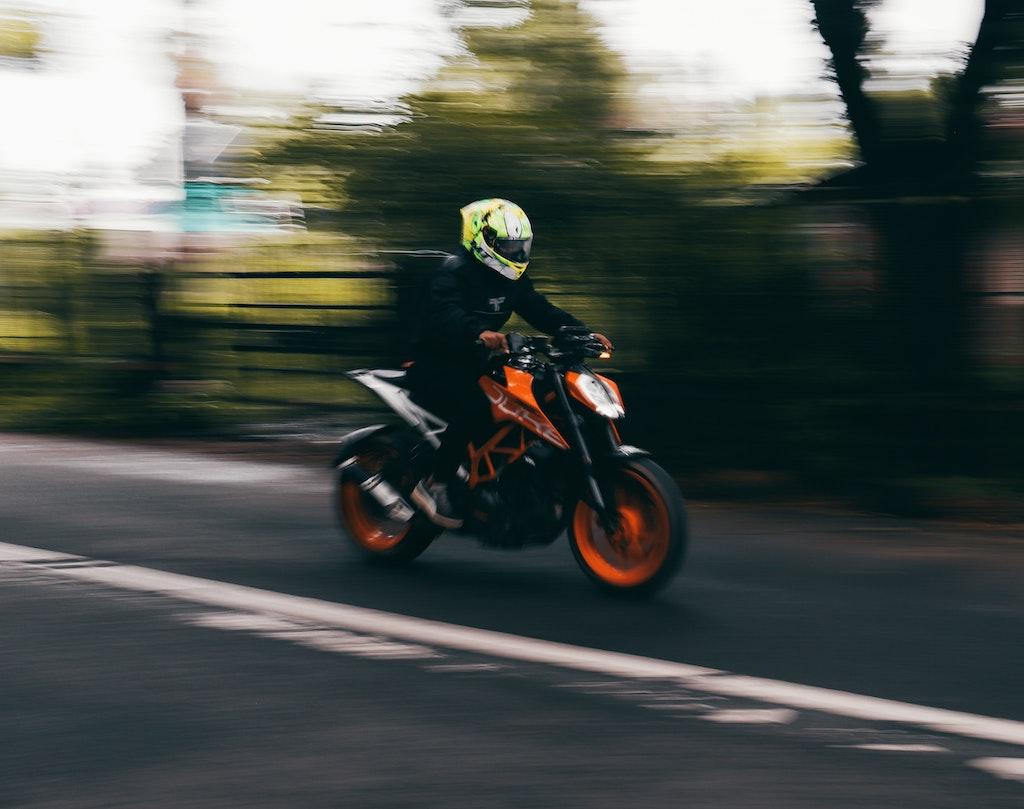helmet: (458, 197, 534, 285)
